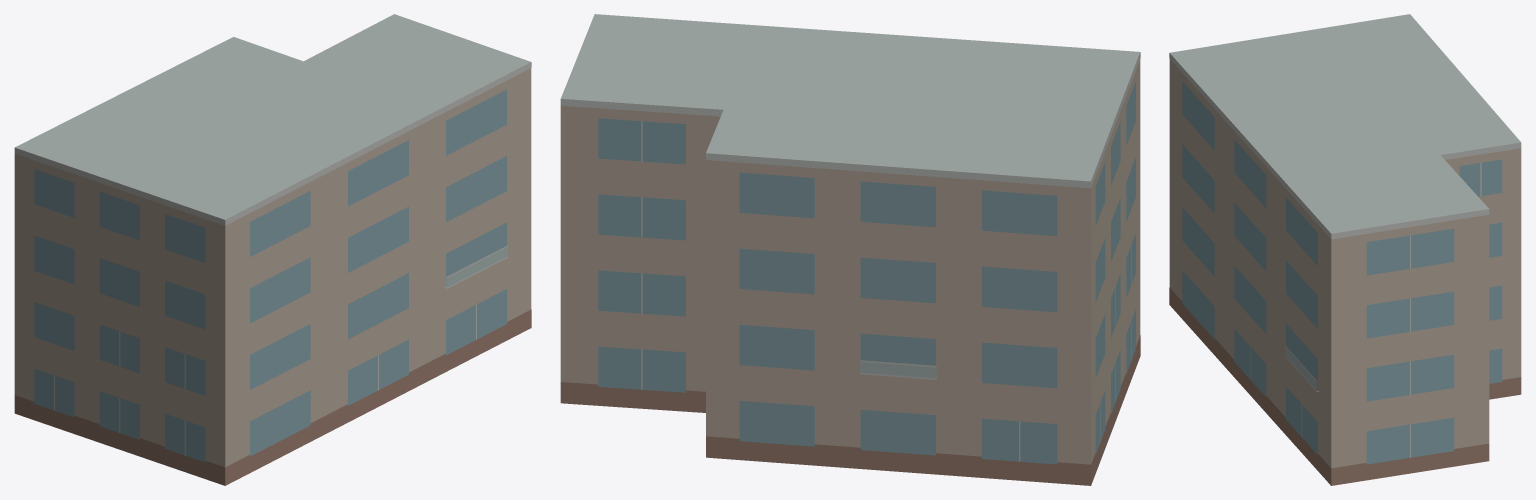
File: survey-upis-32990207.glb
3 views of the same model, side by side, from view 1: azimuth 30°, elevation 25°; view 2: azimuth 150°, elevation 25°; view 3: azimuth 270°, elevation 25° (orthographic). The views are drawn at different scales.
Parts seen in each view (by area): view 1: survey-upis-32990207.tmp; view 2: survey-upis-32990207.tmp; view 3: survey-upis-32990207.tmp.
Boxes of the visible parts, x1=… form: survey-upis-32990207.tmp: x1=14, y1=14, x2=531, y2=485; survey-upis-32990207.tmp: x1=560, y1=14, x2=1140, y2=485; survey-upis-32990207.tmp: x1=1169, y1=14, x2=1521, y2=485.
Size of the model in its own units: 20.39 by 10.9 by 13.8.
